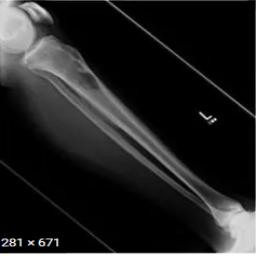cancer: (26, 38, 111, 99)
